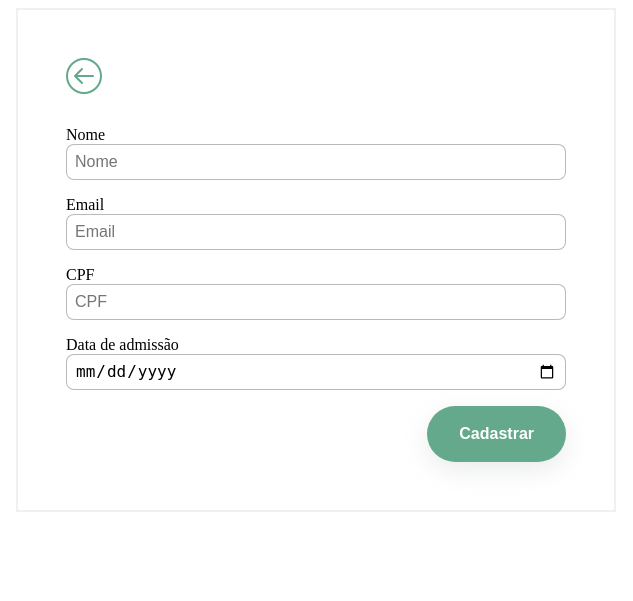
NewUserPage Integration › should show error message when submitting form with Nome starting with numbers
Step 1. Type "123Teste Usuário" into the field with test id "text-field-name" → (316,162), box [66, 144, 566, 180]
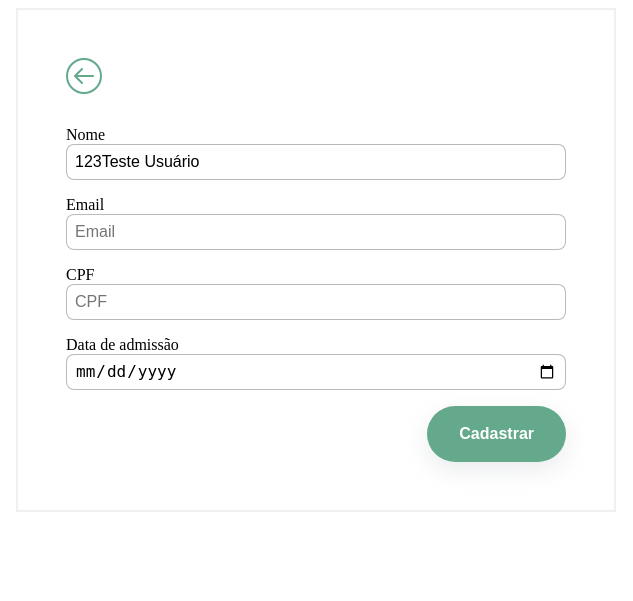
Step 2. Click the button with test id "submit-form" → (497,434), box [427, 406, 566, 462]
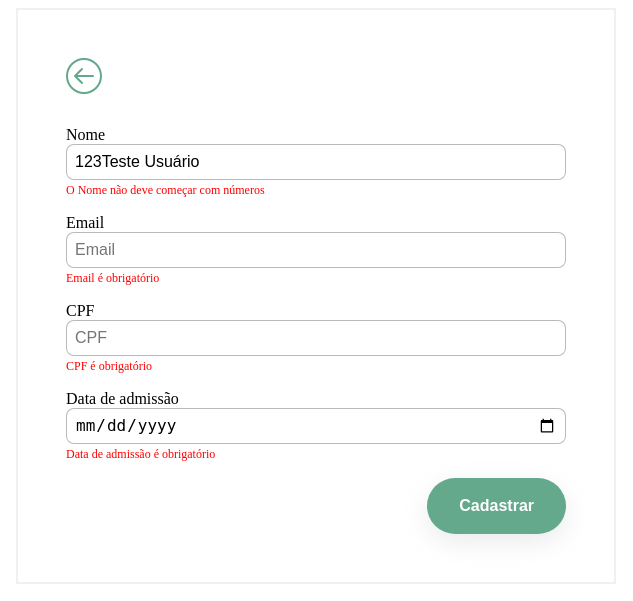
Now the text with test id "error-text-field-name" reads "O Nome não deve começar com números", box [66, 183, 265, 197]
